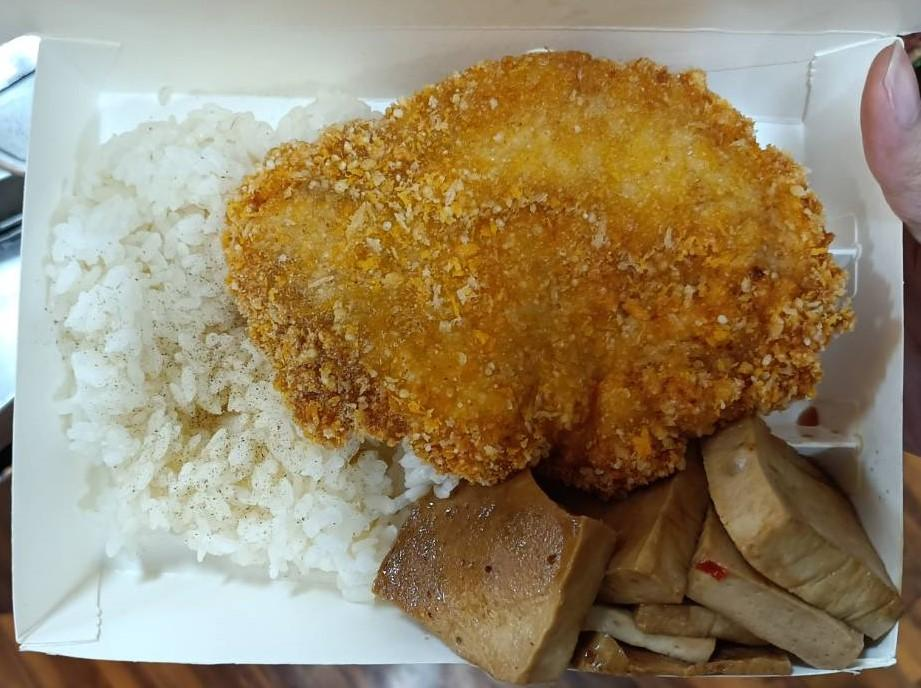big grilled chicken leg: (5, 29, 913, 679)
big herbal chicken leg: (52, 100, 476, 598)
braised fish fillet: (372, 420, 901, 680)
braised pork: (222, 43, 850, 478)
